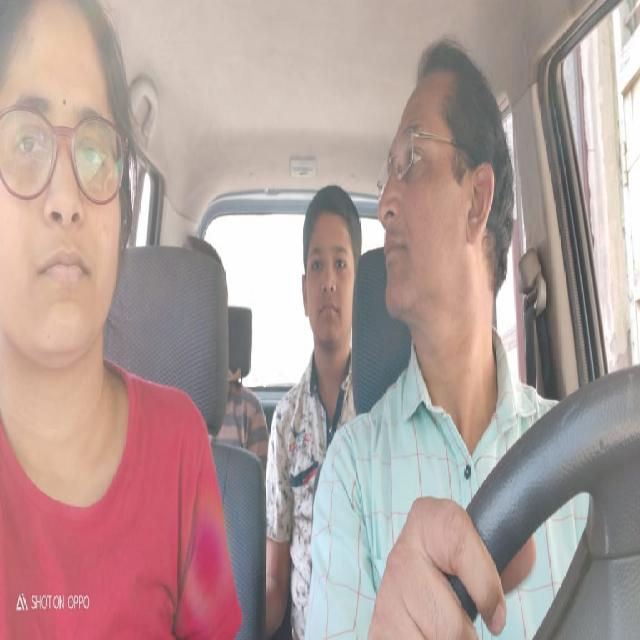LeftRight: (375, 50, 521, 344)
person: (1, 0, 132, 377), (298, 180, 362, 352)
